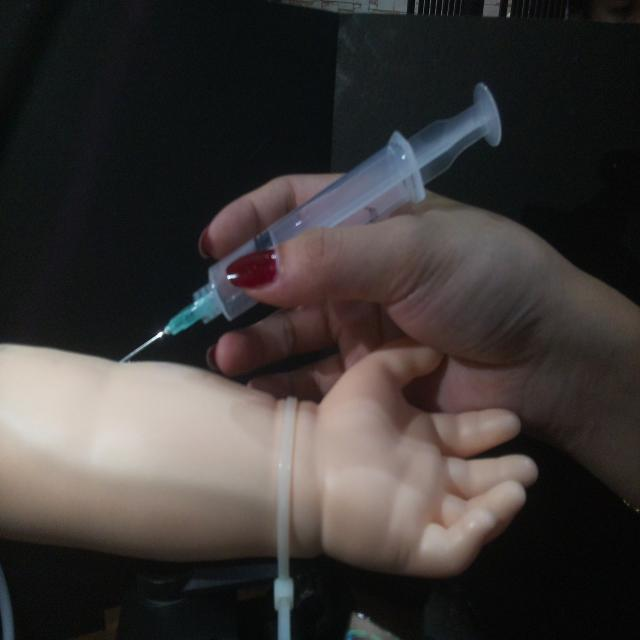30deg: (115, 77, 506, 366)
